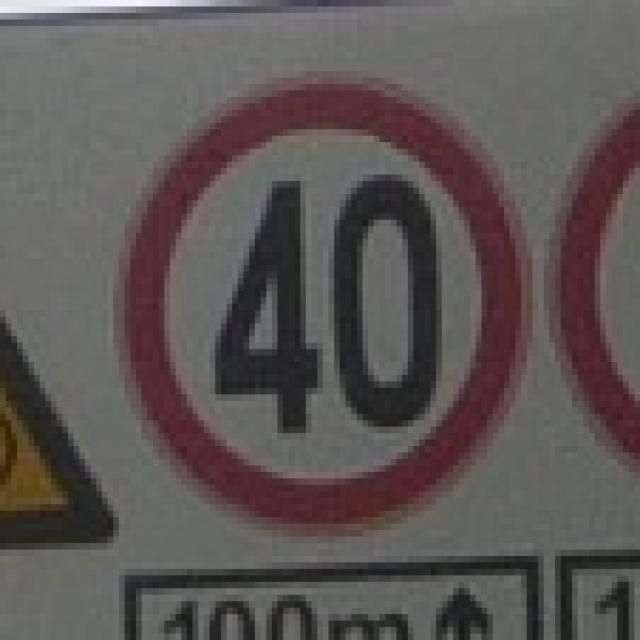Speed Limit -40-: (210, 176, 444, 445)
